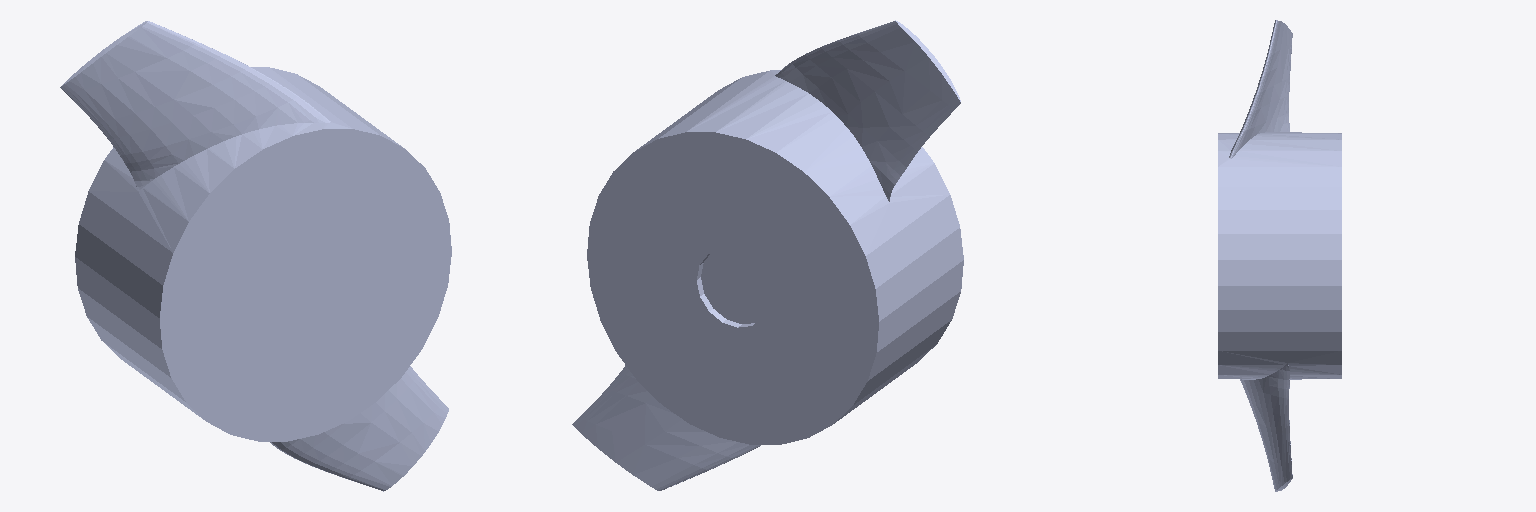
URDF robot description (T100-THRUSTER-PROP):
<?xml version="1.0" encoding="utf-8"?>
<!-- This URDF was automatically created by SolidWorks to URDF Exporter! Originally created by [author] ([email redacted]) 
     Commit Version: 1.5.1-0-g916b5db  Build Version: 1.5.7152.31018
     For more information, please see http://wiki.ros.org/sw_urdf_exporter -->
<robot
  name="T100-THRUSTER-PROP">
  <link
    name="T100-THRUSTER-PROP">
    <inertial>
      <origin
        xyz="4.0172E-17 -0.0046664 1.93347251544738E-17"
        rpy="0 0 0" />
      <mass
        value="0.025834" />
      <inertia
        ixx="3.767E-06"
        ixy="2.93288806330505E-22"
        ixz="2.0482E-07"
        iyy="5.5728E-06"
        iyz="-4.77762232260691E-21"
        izz="3.4934E-06" />
    </inertial>
    <visual>
      <origin
        xyz="4.0172E-17 -0.0046664 1.93347251544738E-17"
        rpy="1.5707963267949 0 0" />
      <geometry>
        <mesh
          filename="package://T100-THRUSTER-PROP/meshes/T100-THRUSTER-PROP.STL" />
      </geometry>
      <material
        name="">
        <color
          rgba="0.79216 0.81961 0.93333 1" />
        <texture
          filename="package://T100-THRUSTER-PROP/textures/" />
      </material>
    </visual>
    <collision>
      <origin
        xyz="4.0172E-17 -0.0046664 1.93347251544738E-17"
        rpy="1.5707963267949 0 0" />
      <geometry>
        <mesh
          filename="package://T100-THRUSTER-PROP/meshes/T100-THRUSTER-PROP.STL" />
      </geometry>
    </collision>
  </link>
</robot>

--- Render facts (derived) ---
Views: 3 orthographic renders of the robot side by side, from view 1: azimuth 30°, elevation 25°; view 2: azimuth 150°, elevation 25°; view 3: azimuth 270°, elevation 25°.
Model T100-THRUSTER-PROP with 1 links and 0 joints (none), rooted at T100-THRUSTER-PROP, posed every joint at zero.
Links seen in each view (by area): view 1: T100-THRUSTER-PROP; view 2: T100-THRUSTER-PROP; view 3: T100-THRUSTER-PROP.
Link boxes in pixels (x1,y1,x2,y2): T100-THRUSTER-PROP: (60, 21, 451, 491); T100-THRUSTER-PROP: (572, 20, 963, 490); T100-THRUSTER-PROP: (1218, 20, 1341, 491).
Bounding box of the posed robot: 0.0533 × 0.0201 × 0.0691 m (x, y, z).
Meshes: 1 distinct files referenced, 1 mesh visuals loaded (1 binary STL).